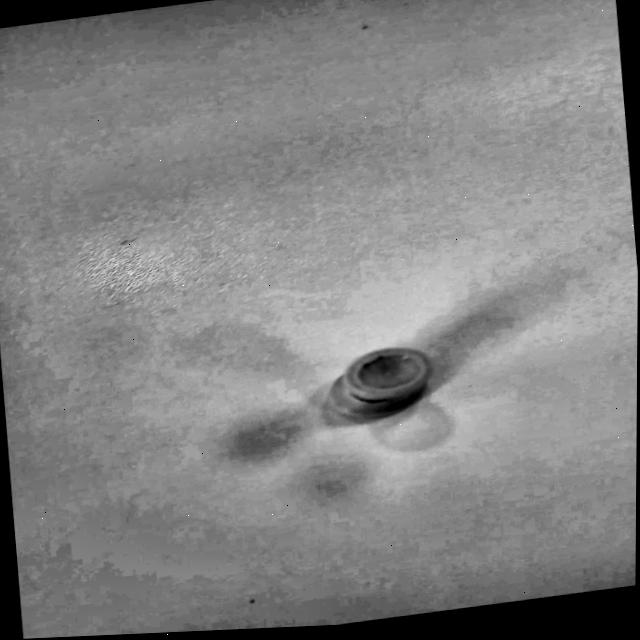white-rook: (325, 346, 442, 423)
